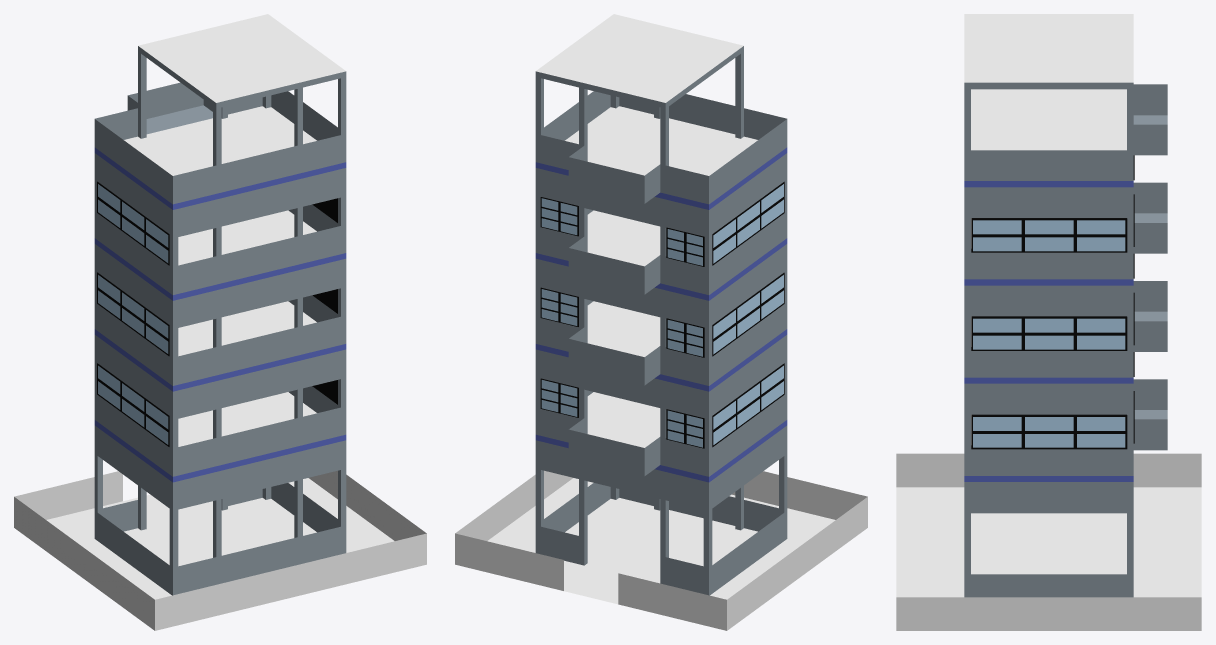
Rendered from building one.fbx.
The picture shows the model from 3 angles, left to right: view 1: azimuth 30°, elevation 25°; view 2: azimuth 150°, elevation 25°; view 3: azimuth 270°, elevation 25°; orthographic projection. The views are drawn at different scales.
Visible parts, largest first — view 1: 1_1; view 2: 1_1; view 3: 1_1.
Part boxes in pixels (<box>): 1_1: <box>14,14,426,630</box>; 1_1: <box>455,14,867,630</box>; 1_1: <box>896,14,1201,630</box>.
Size of the model in its own units: 1003 by 1720 by 900.
